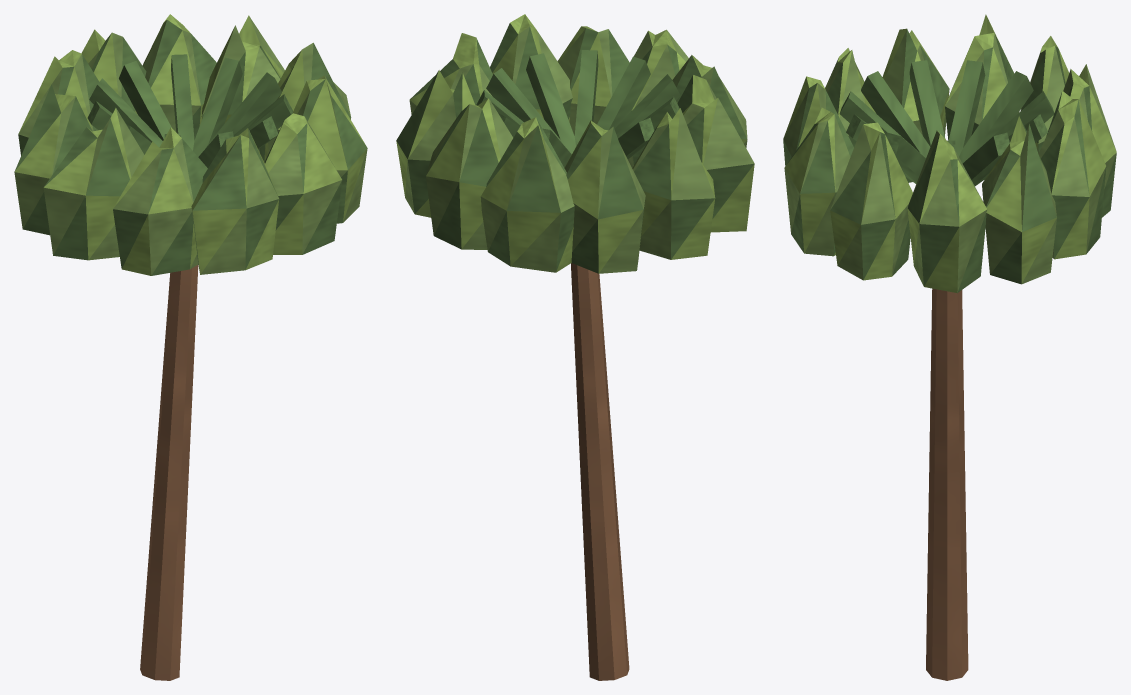
The model's file is palm_small_02.fbx.
The picture shows the model from 3 angles, left to right: view 1: azimuth 30°, elevation 25°; view 2: azimuth 150°, elevation 25°; view 3: azimuth 270°, elevation 25°; orthographic projection. The views are drawn at different scales.
Visible parts, largest first — view 1: palm_small_02; view 2: palm_small_02; view 3: palm_small_02.
Boxes of the visible parts, x1,y1,x2,y2 form: palm_small_02: [14, 14, 367, 680]; palm_small_02: [396, 14, 754, 680]; palm_small_02: [783, 14, 1116, 680].
Size of the model in its own units: 389 by 690 by 340.
Materials: 1 (1 with a texture image).
